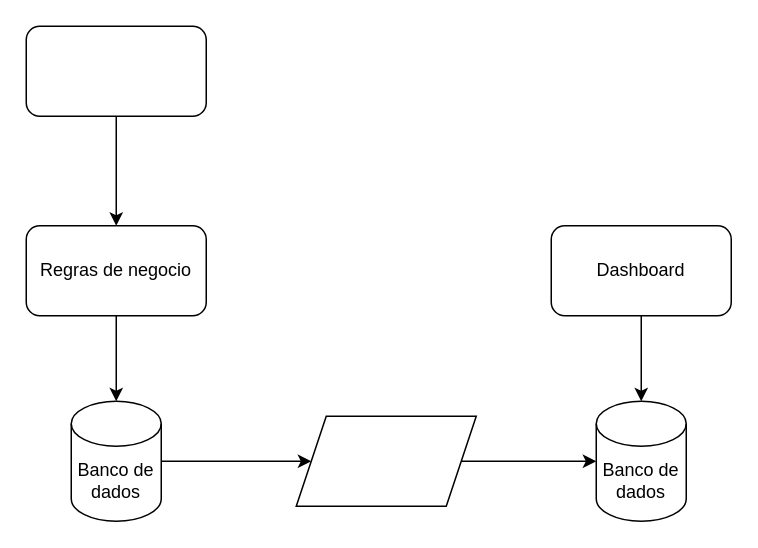
This 758x548 diagram has some shape labels left out. Each missing label, with the centre of its shape:
"ETL" goes at point (385, 460).
"UI" goes at point (115, 70).
